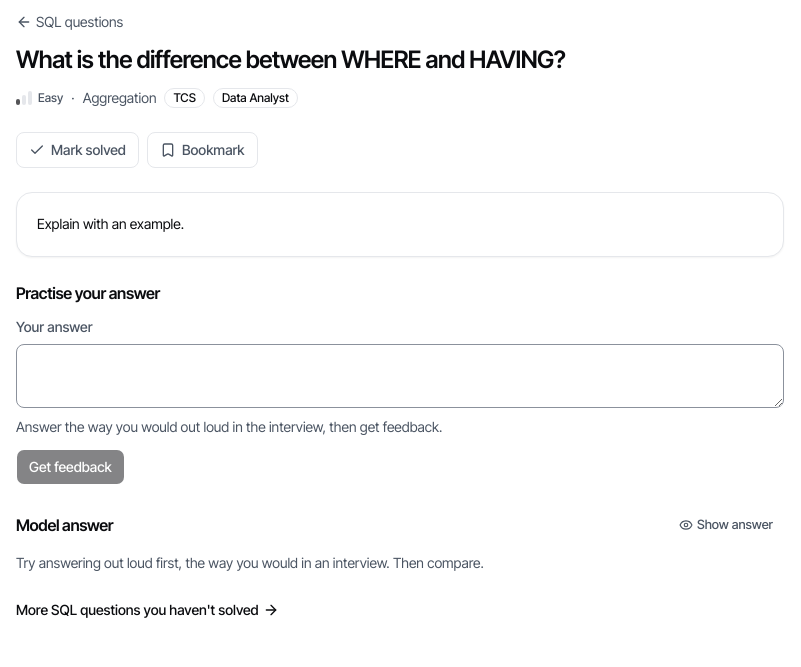
Test: QuestionView: your answer and the coach › shows why feedback failed and keeps the answer
This screenshot has width=801, height=667.
Type "WHERE filters rows before grouping, HAVING filters the groups." into the text box labelled "Your answer" at (400, 376), box [16,344,784,408]
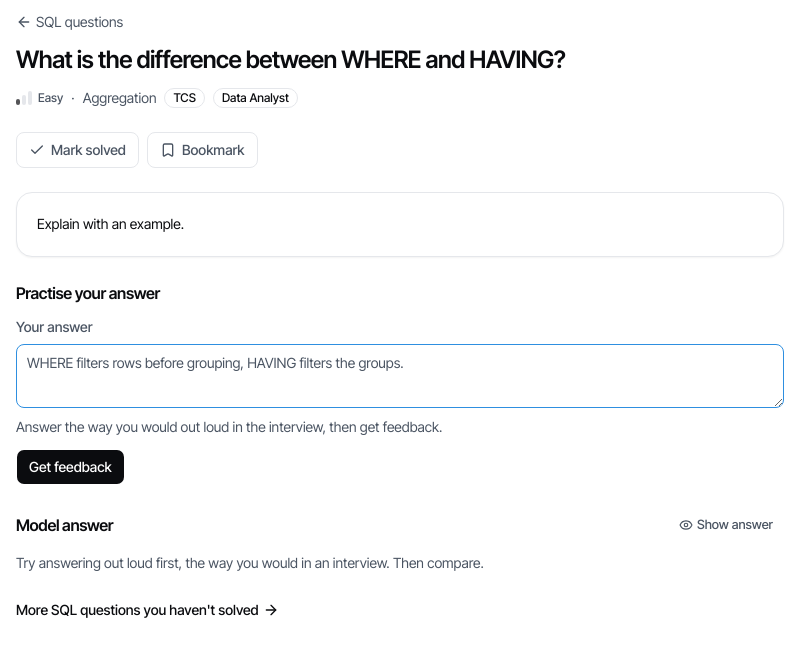
Click the button "Get feedback" at (70, 467), box [16,449,125,485]
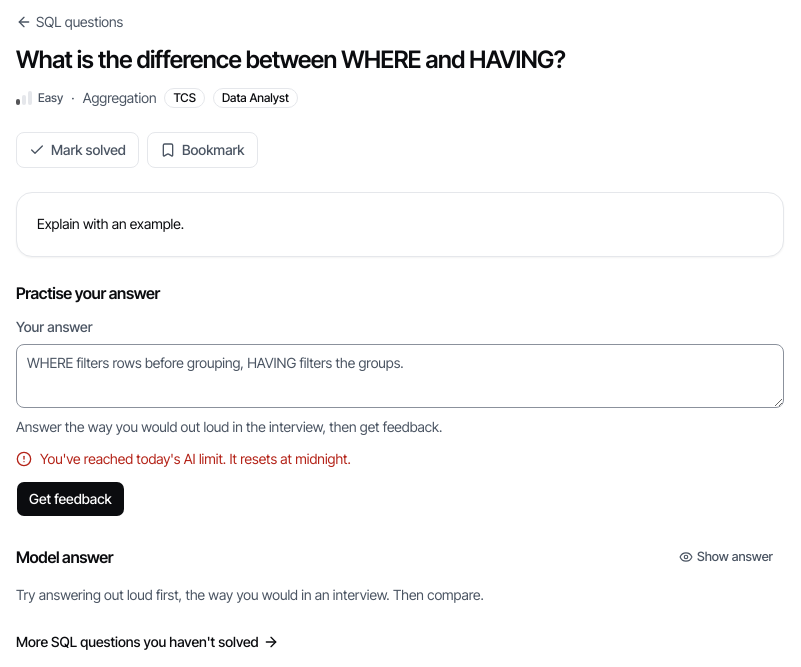
Expected: the message shows "You've reached today's AI limit.", [40,450,351,467]
